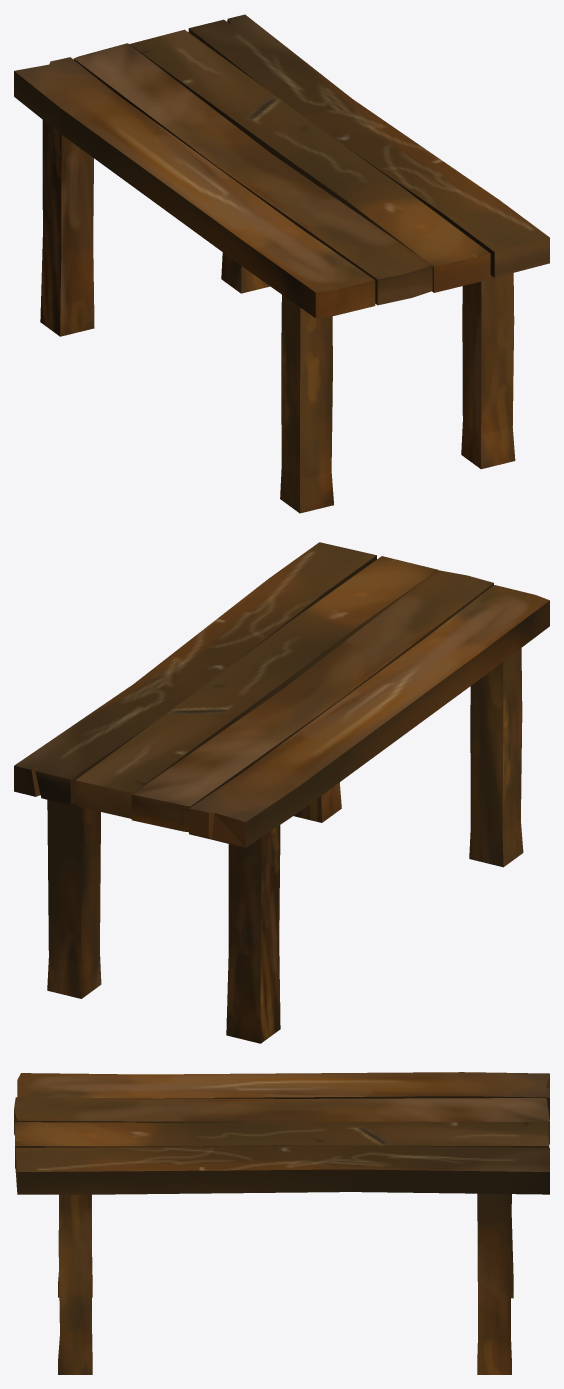
The model's file is table.obj.
The picture shows the model from 3 angles, top to bottom: view 1: azimuth 30°, elevation 25°; view 2: azimuth 150°, elevation 25°; view 3: azimuth 270°, elevation 25°; orthographic projection. The views are drawn at different scales.
Visible parts, largest first — view 1: Cube.007, Cube.005, Cube.004, Cube.006, Cube.001, Cube.003, Cube, Cube.002; view 2: Cube.007, Cube.005, Cube.004, Cube.006, Cube.003, Cube.001, Cube.002, Cube; view 3: Cube.004, Cube.007, Cube.005, Cube.006, Cube.002, Cube.
Part boxes in pixels (x1,y1,x2,y2): Cube.007: [14, 57, 375, 318]; Cube.005: [129, 29, 490, 292]; Cube.004: [188, 14, 549, 277]; Cube.006: [73, 43, 432, 305]; Cube.001: [280, 295, 333, 513]; Cube.003: [40, 120, 94, 336]; Cube: [461, 273, 515, 469]; Cube.002: [221, 252, 270, 293]; Cube.007: [189, 585, 549, 847]; Cube.005: [75, 556, 437, 818]; Cube.004: [14, 542, 376, 805]; Cube.006: [131, 570, 493, 832]; Cube.003: [226, 825, 280, 1043]; Cube.001: [469, 648, 523, 867]; Cube.002: [47, 800, 101, 998]; Cube: [294, 782, 341, 822]; Cube.004: [15, 1146, 549, 1194]; Cube.007: [17, 1072, 549, 1119]; Cube.005: [15, 1121, 549, 1168]; Cube.006: [14, 1097, 549, 1144]; Cube.002: [477, 1193, 511, 1374]; Cube: [58, 1194, 92, 1374].
Bounding box in the file's own units: 3.96 × 3.85 × 8.98.
1 material, 1 textured.
